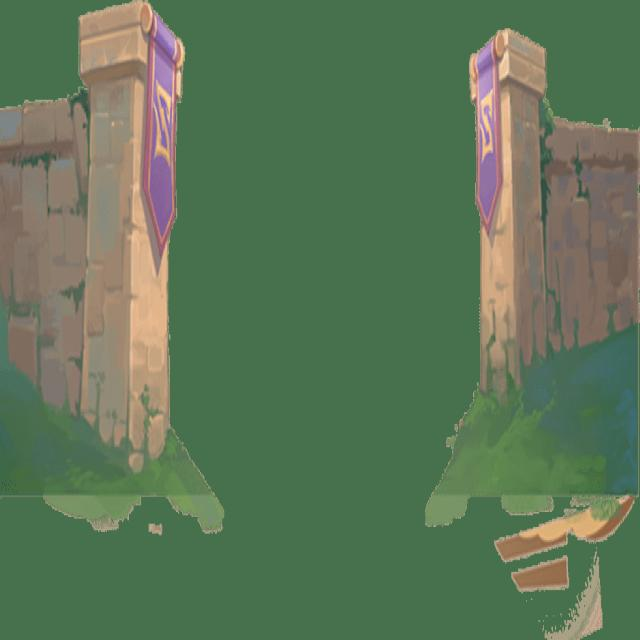Animation Frames: (76, 0, 185, 474)
Background Image: (1, 2, 638, 635)
Banner: (140, 11, 180, 258), (470, 33, 502, 236)
Illustration: (424, 25, 639, 633), (1, 0, 224, 537)
Text Elements: (445, 382, 479, 457), (479, 85, 494, 163)
